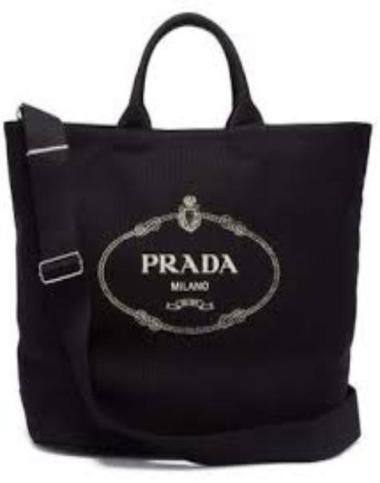PRADA: (137, 251, 241, 276)
